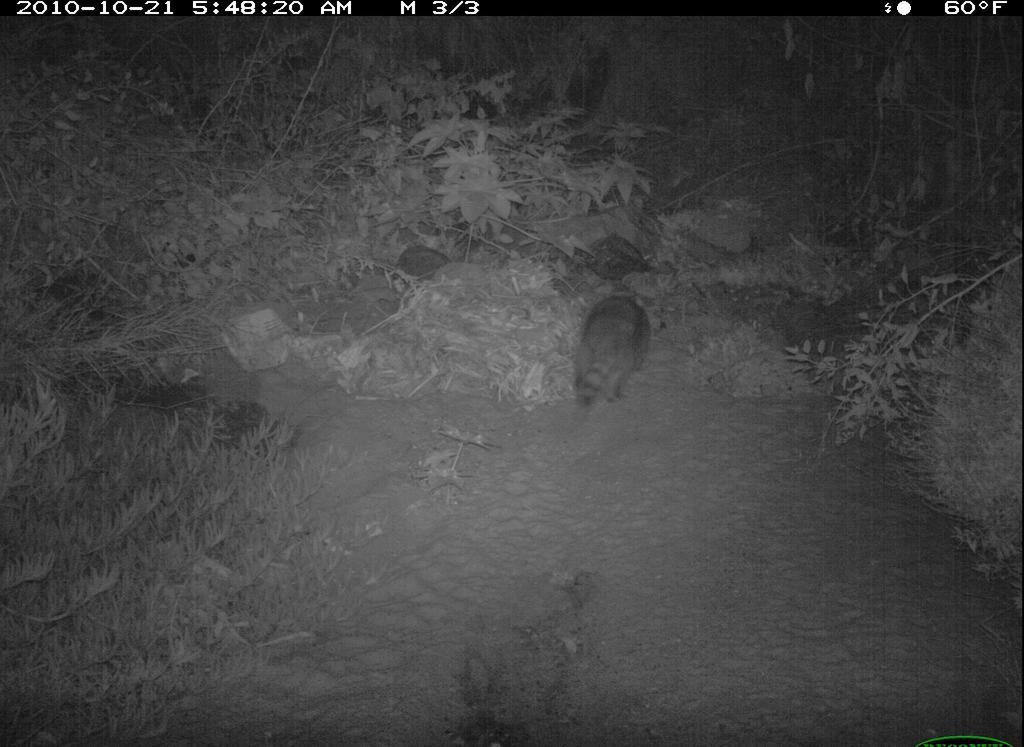raccoon: (557, 269, 670, 437)
